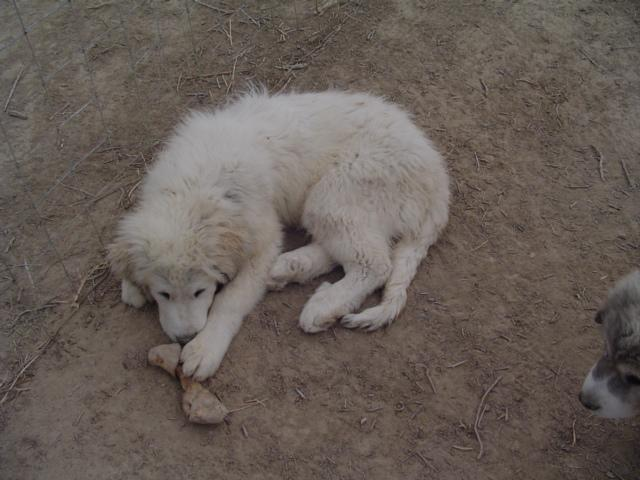Great_Pyrenees: (105, 85, 451, 381)
